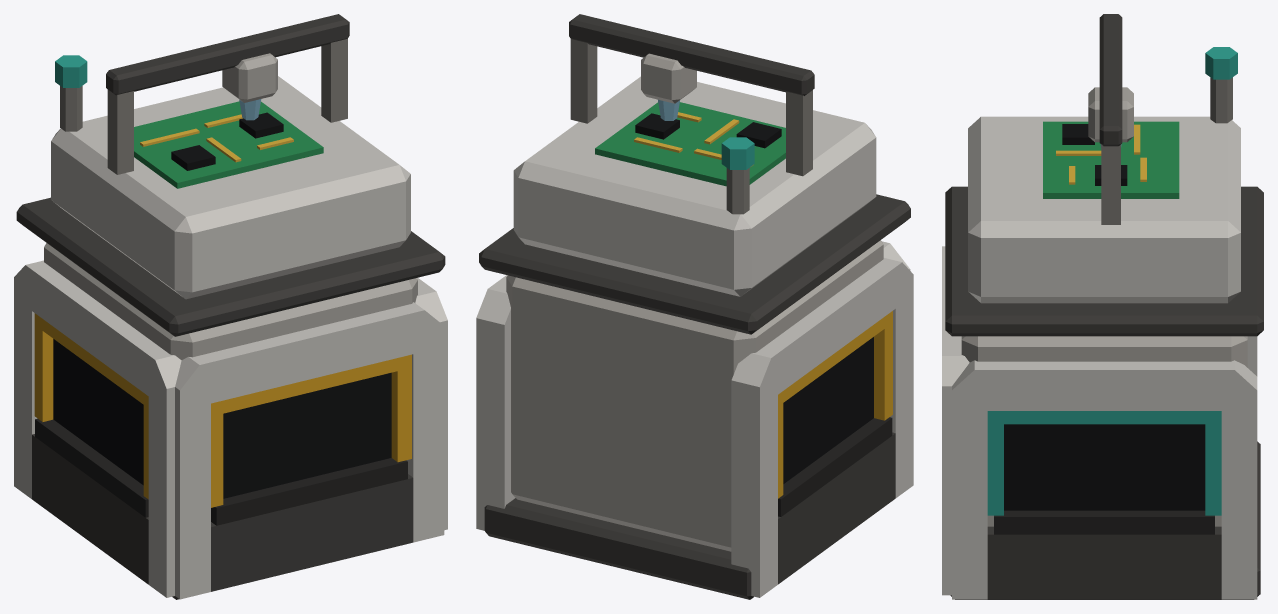
Rendered from circuit.fbx.
The picture shows the model from 3 angles, left to right: view 1: azimuth 30°, elevation 25°; view 2: azimuth 150°, elevation 25°; view 3: azimuth 270°, elevation 25°; orthographic projection.
Visible parts, largest first — view 1: circuit; view 2: circuit; view 3: circuit.
Boxes of the visible parts, box(x1,y1,x2,y2) form: circuit: box(14, 14, 447, 599); circuit: box(476, 14, 913, 599); circuit: box(942, 14, 1263, 599).
Bounding box in the file's own units: 3 × 4.75 × 2.97.
